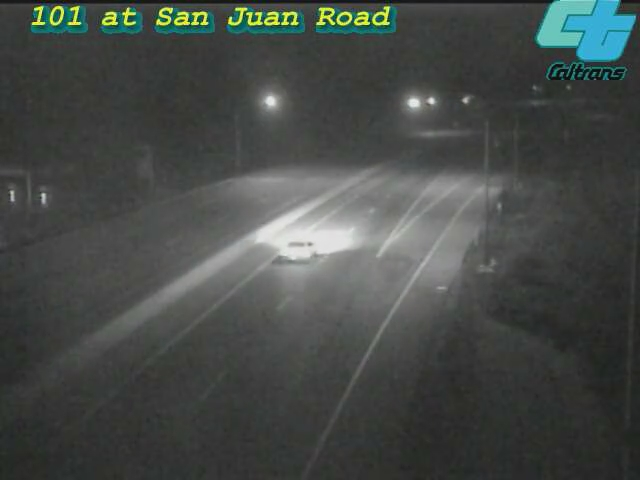vehicle: (257, 207, 337, 287)
